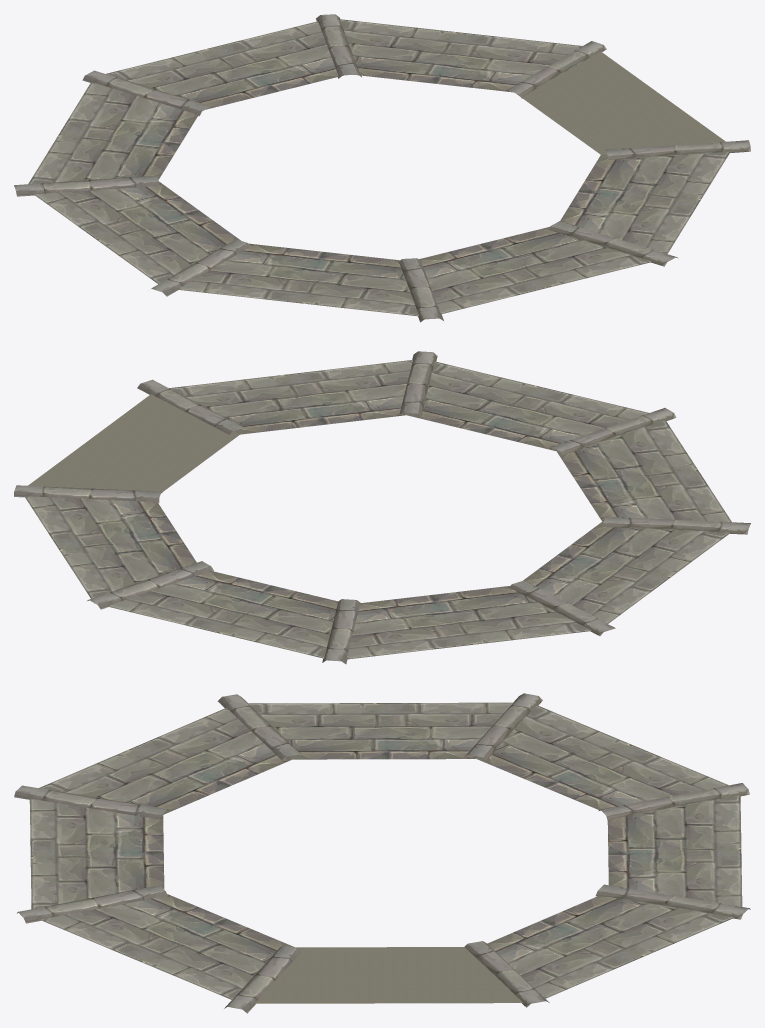
Rendered from cj_xinshou_dihua02_53_51_9195out.fbx.
The picture shows the model from 3 angles, top to bottom: view 1: azimuth 30°, elevation 25°; view 2: azimuth 150°, elevation 25°; view 3: azimuth 270°, elevation 25°; orthographic projection. The views are drawn at different scales.
Visible parts, largest first — view 1: cj_xinshou_dihua02; view 2: cj_xinshou_dihua02; view 3: cj_xinshou_dihua02.
Boxes of the visible parts, <box> form: cj_xinshou_dihua02: <box>14,14,750,322</box>; cj_xinshou_dihua02: <box>14,351,750,664</box>; cj_xinshou_dihua02: <box>14,693,750,1013</box>.
Bounding box in the file's own units: 10.81 × 0.0557 × 10.6.
